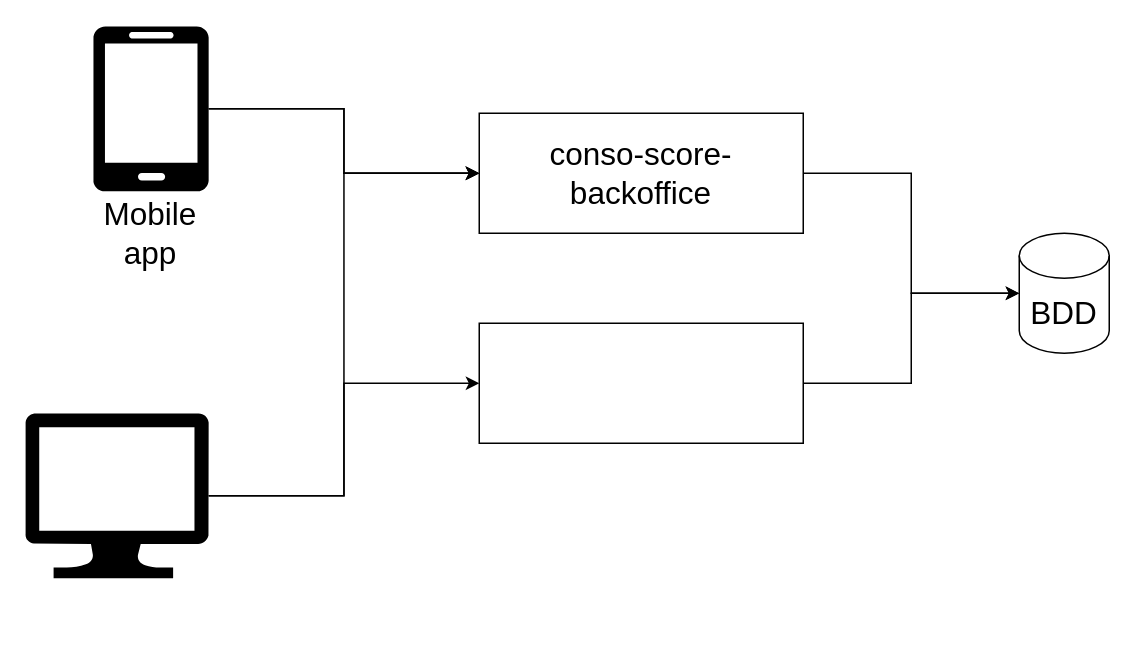
The diagram is 1137 pixels wide and 651 high, and some of its shapes have lost their labels. The centre of each missing label's shape, as x and y in pixels:
UserManager: the point at 640,382
Web app: the point at 116,495
